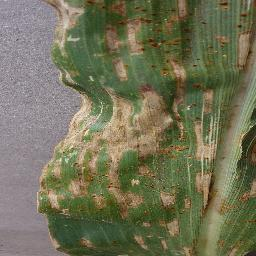Gray_Leaf_Spot: (62, 0, 172, 218), (172, 0, 256, 238), (34, 145, 61, 251), (108, 237, 254, 256), (44, 0, 61, 68), (136, 218, 172, 237), (78, 237, 98, 253)
